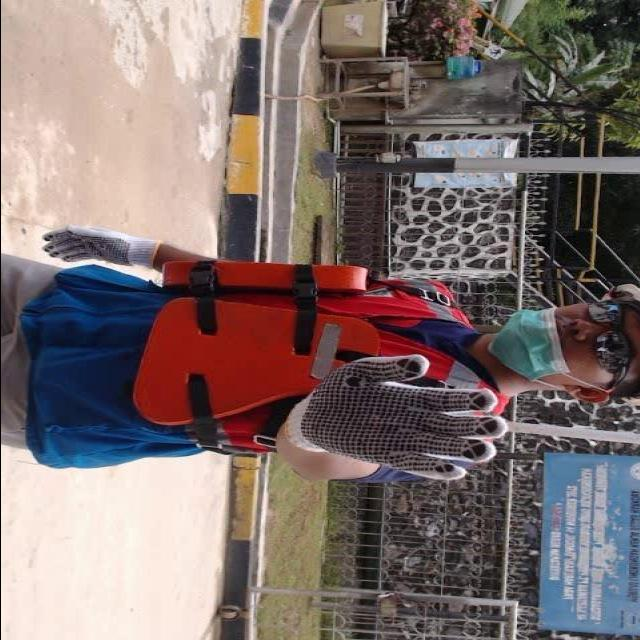jacket: (143, 240, 528, 478)
